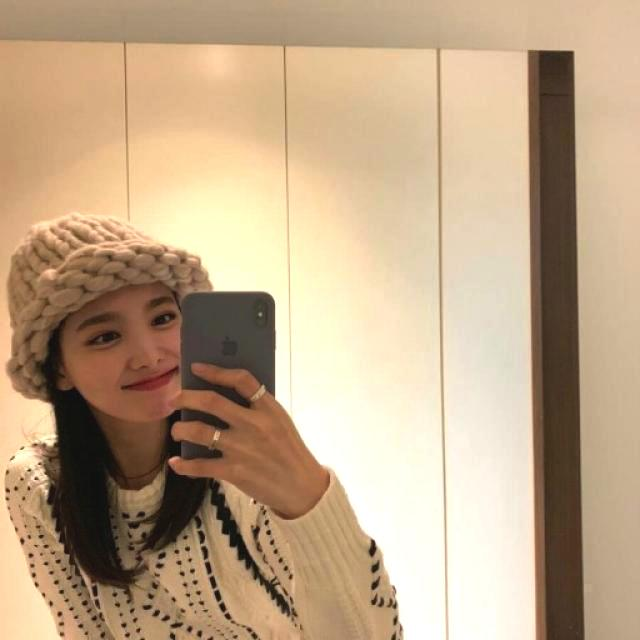lens: (253, 295, 268, 328)
phone: (178, 287, 278, 461)
